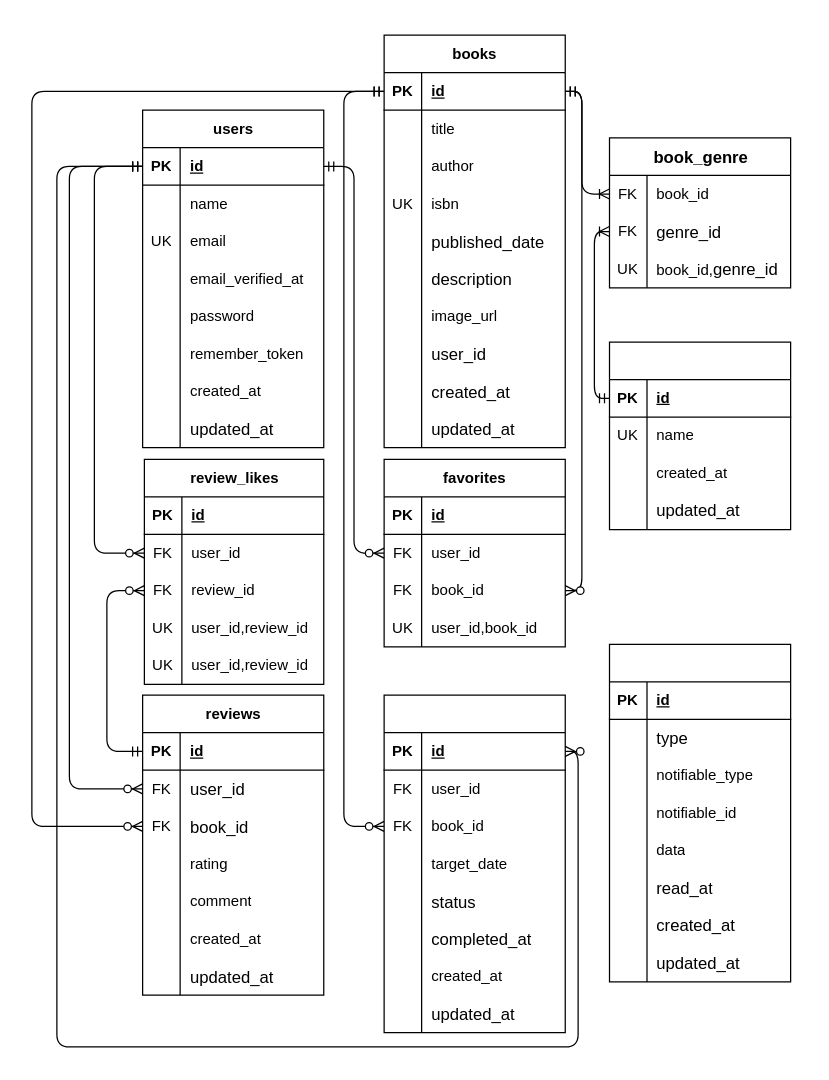
Some shapes in this 829 by 1080 pixel diagram are drawn without their labels. The box of each missing label's shape, as (x1, y1, x2, y2) in pixels:
genres: (608, 341, 791, 530)
notifications: (608, 643, 791, 982)
reading_plans: (383, 694, 565, 1033)
